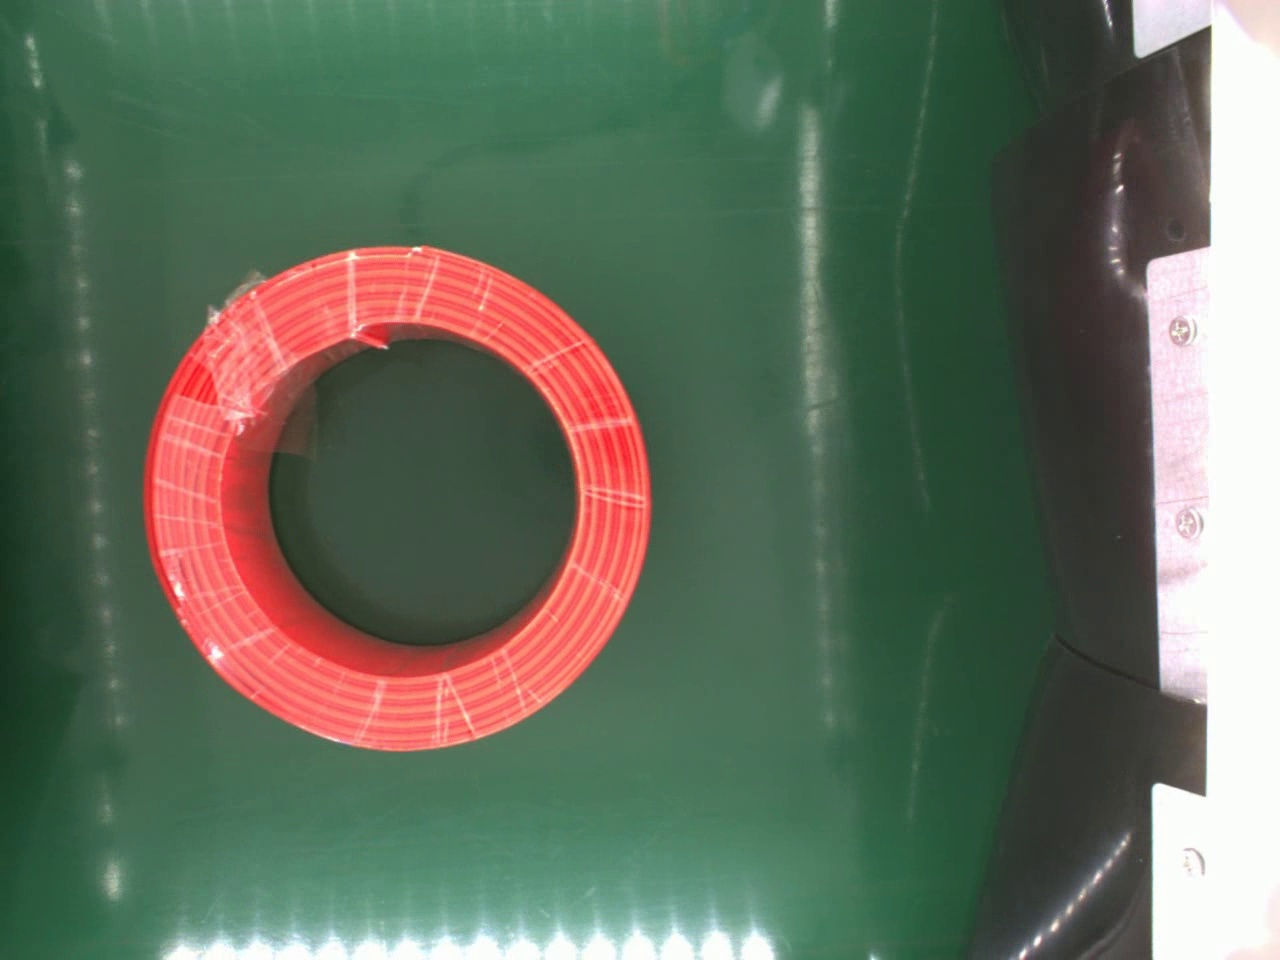red: (140, 241, 658, 760)
